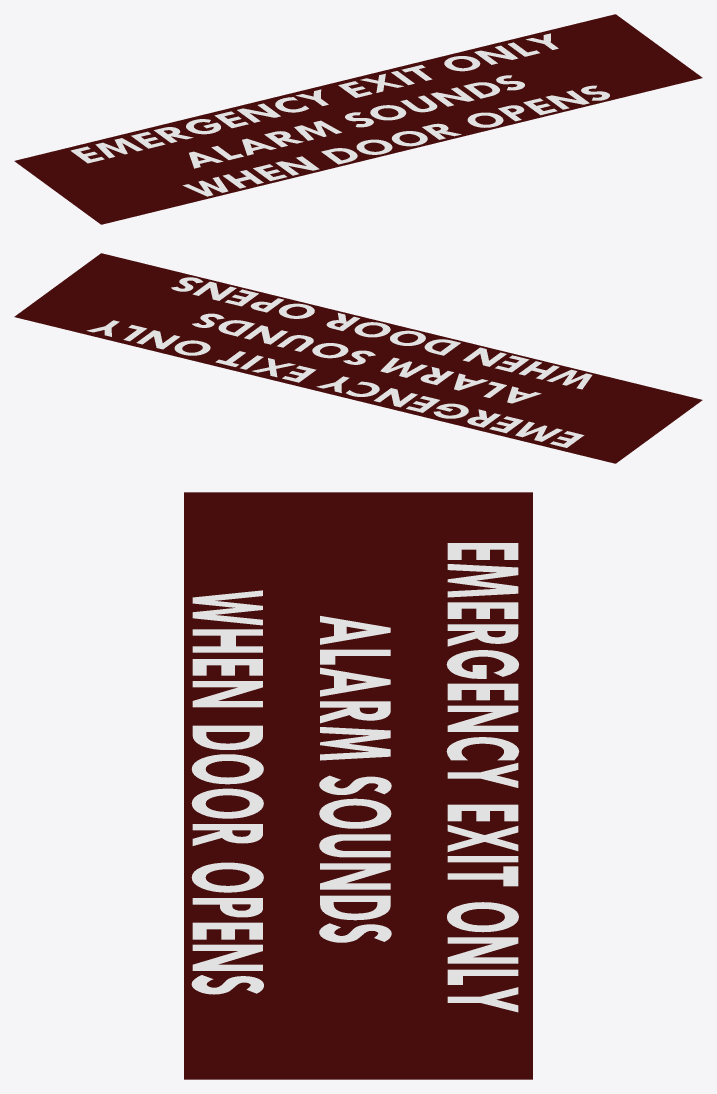
3 views of the same model, one above another, from view 1: azimuth 30°, elevation 25°; view 2: azimuth 150°, elevation 25°; view 3: azimuth 270°, elevation 25° (orthographic). The views are drawn at different scales.
Visible parts, largest first — view 1: SketchUp, EMERGENCY_EXIT_O (×8); view 2: SketchUp, EMERGENCY_EXIT_O (×8); view 3: SketchUp, EMERGENCY_EXIT_O (×32).
Boxes of the visible parts, x1,y1,x2,y2 form: SketchUp: [14, 14, 702, 224]; EMERGENCY_EXIT_O (×8): [95, 45, 589, 196]; SketchUp: [14, 253, 702, 463]; EMERGENCY_EXIT_O (×8): [136, 281, 592, 441]; SketchUp: [184, 492, 532, 1079]; EMERGENCY_EXIT_O (×32): [191, 543, 519, 970].
Bounding box in the file's own units: 12.94 × 3.25 × 0.005.
